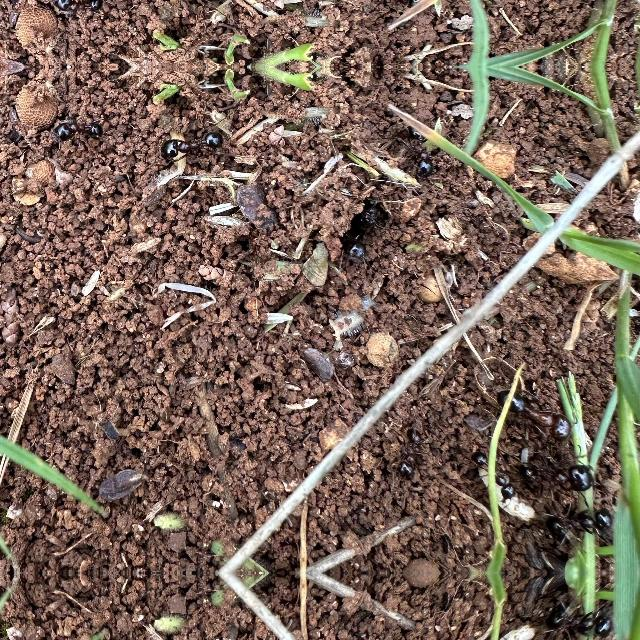Messor: (452, 458, 518, 508), (546, 444, 600, 491), (36, 117, 126, 145), (158, 126, 222, 160), (385, 430, 421, 486), (570, 502, 620, 542), (570, 601, 619, 640), (36, 0, 126, 15)
